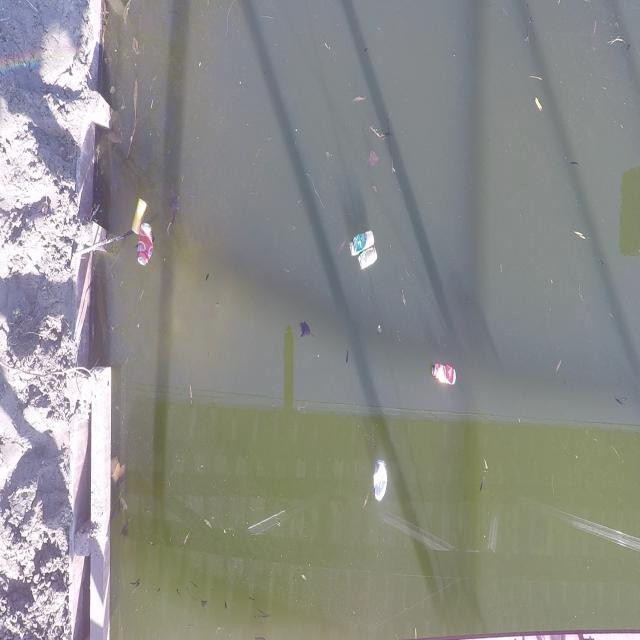Non plastique: (342, 218, 386, 263), (132, 213, 157, 274), (351, 238, 384, 281), (125, 190, 152, 242), (369, 450, 392, 508), (429, 357, 461, 389)
